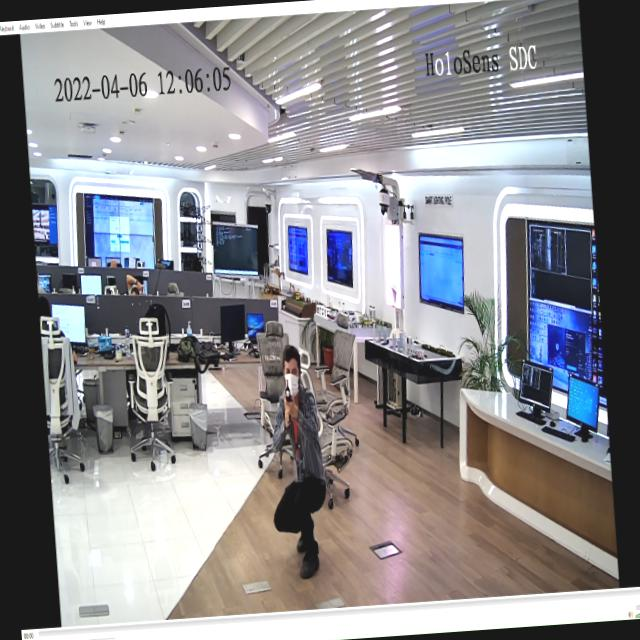long weapon: (281, 376, 296, 419)
